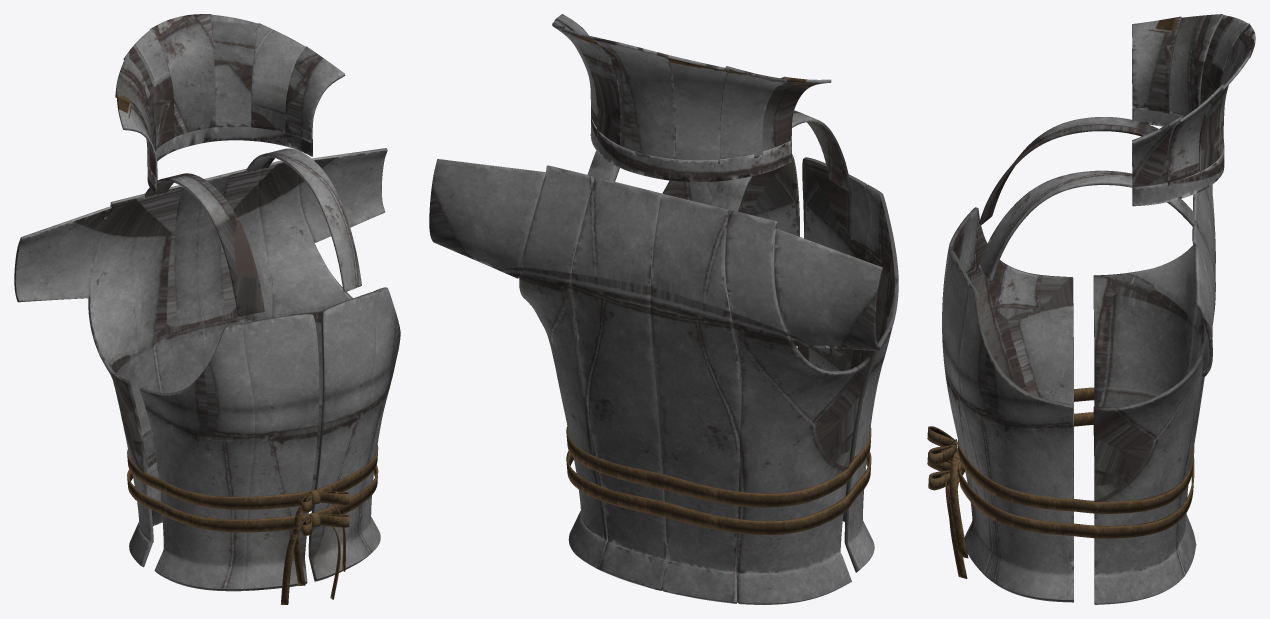
File: armor-v1.glb
The picture shows the model from 3 angles, left to right: view 1: azimuth 30°, elevation 25°; view 2: azimuth 150°, elevation 25°; view 3: azimuth 270°, elevation 25°; orthographic projection. The views are drawn at different scales.
Parts seen in each view (by area): view 1: 24WA0015_high; view 2: 24WA0015_high; view 3: 24WA0015_high.
Boxes of the visible parts, box(x1,y1,x2,y2) form: 24WA0015_high: box(14, 14, 400, 604); 24WA0015_high: box(429, 14, 898, 604); 24WA0015_high: box(927, 14, 1255, 604).
Bounding box in the file's own units: 0.5393 × 0.6871 × 0.3844.
1 material, 1 textured.
